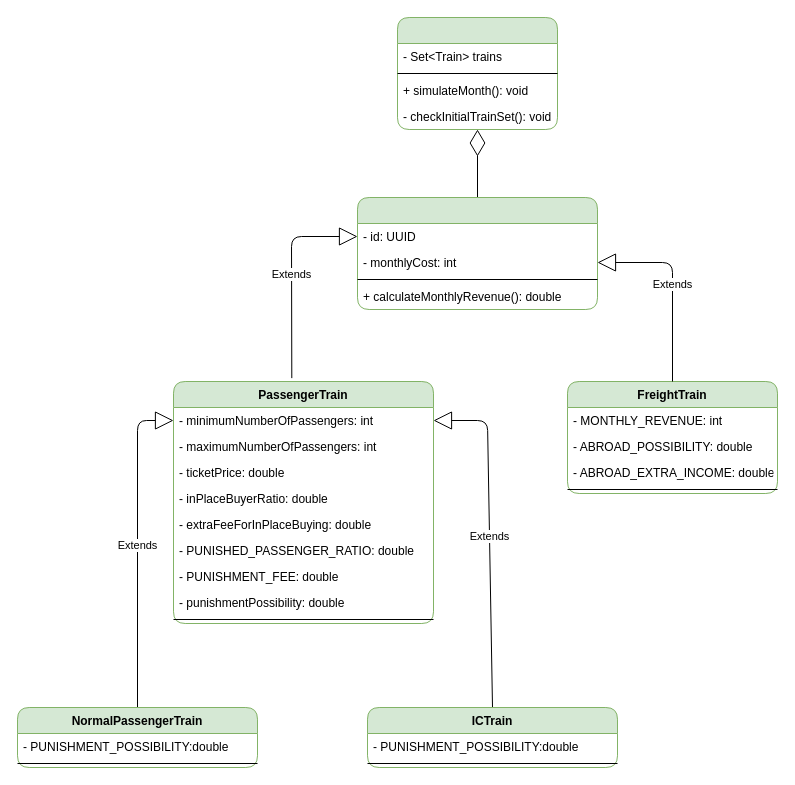
Some shapes in this 795 by 785 pixel diagram are drawn without their labels. Here are the shapes that lost their labels. From the top down, the box of each, then its label:
(396, 16, 558, 130): TrainCompany
(356, 196, 598, 310): Train
